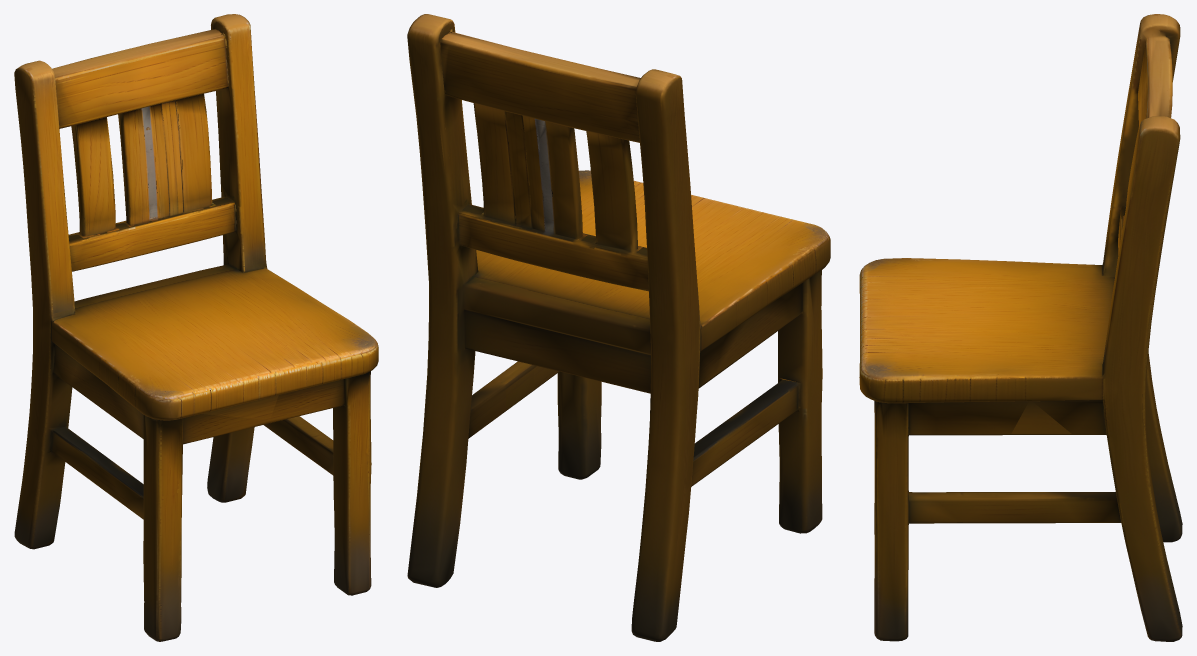
The model's file is chair_dining.glb.
3 views of the same model, side by side, from view 1: azimuth 30°, elevation 25°; view 2: azimuth 150°, elevation 25°; view 3: azimuth 270°, elevation 25° (orthographic). The views are drawn at different scales.
Visible parts, largest first — view 1: chair_dining; view 2: chair_dining; view 3: chair_dining.
Part boxes in pixels (x1,y1,x2,y2): chair_dining: (14,14,378,641); chair_dining: (407,14,830,641); chair_dining: (859,14,1182,641).
Size of the model in its own units: 0.4525 by 0.8997 by 0.509.
1 material, 1 textured.
